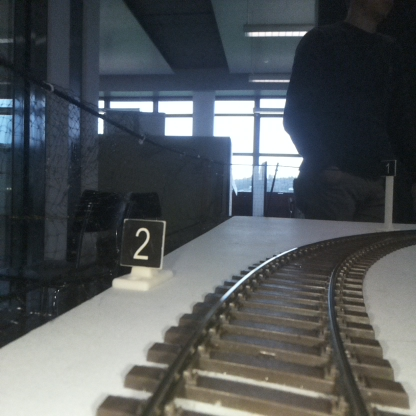black-info-1: (381, 158, 395, 228)
black-stop-2: (123, 218, 161, 286)
